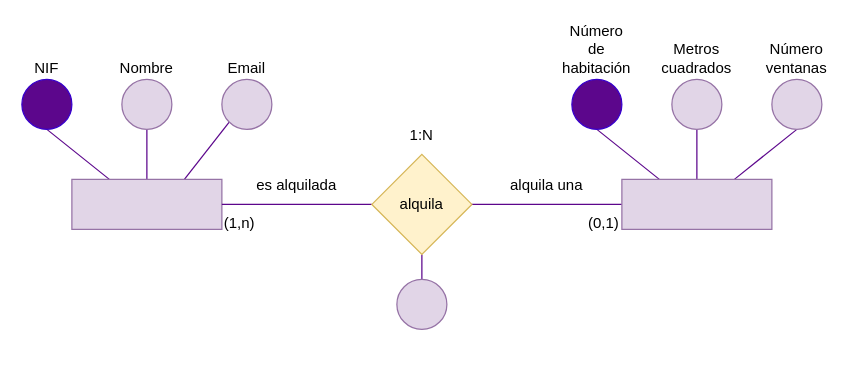
This 849x376 diagram has some shape labels left out. Here are the shapes that lost their labels. From the top down, the centre of each, then its label:
[146,203]: Estudiante
[696,203]: Habitación
[421,303]: Renta
